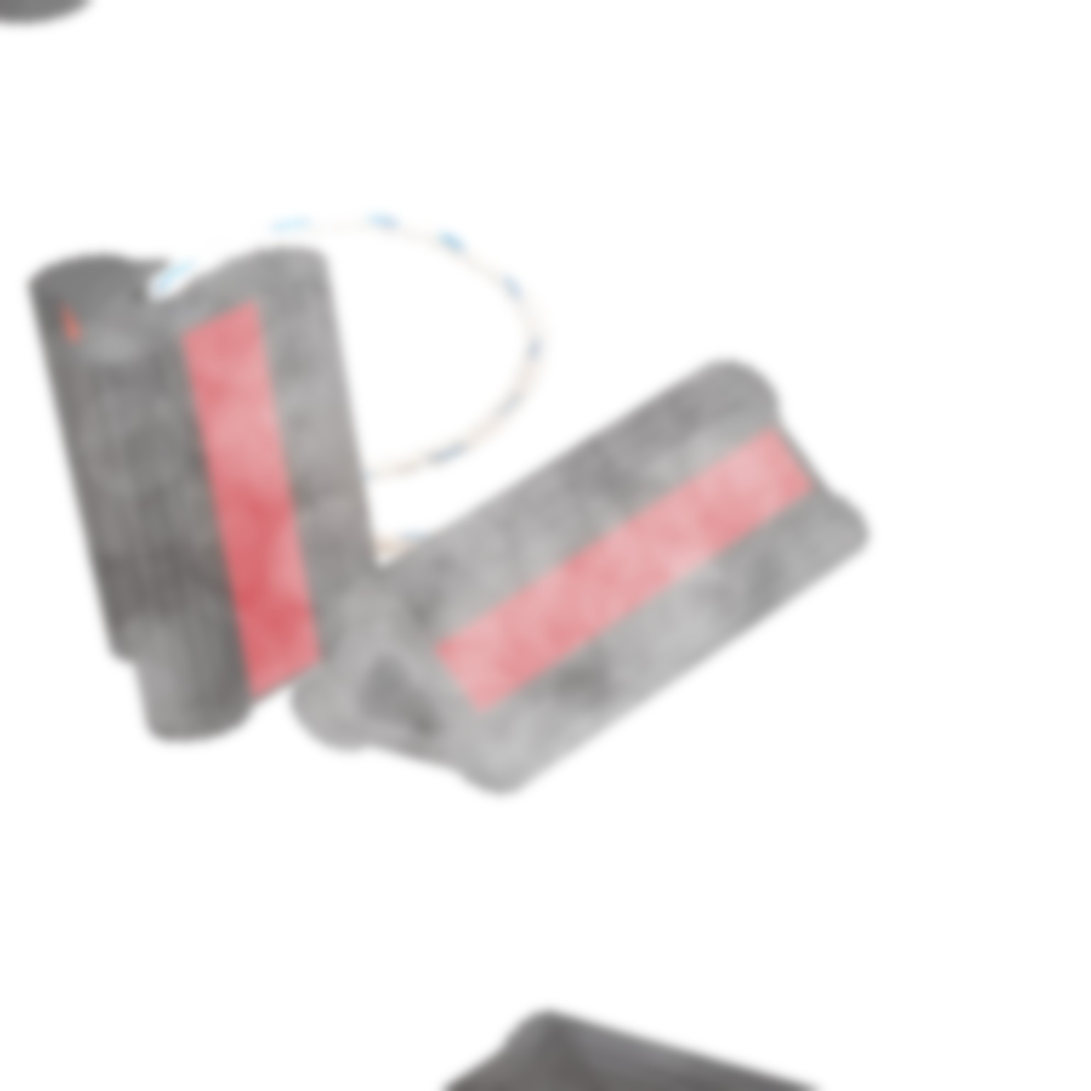chock: (247, 332, 905, 830), (8, 209, 405, 759)
